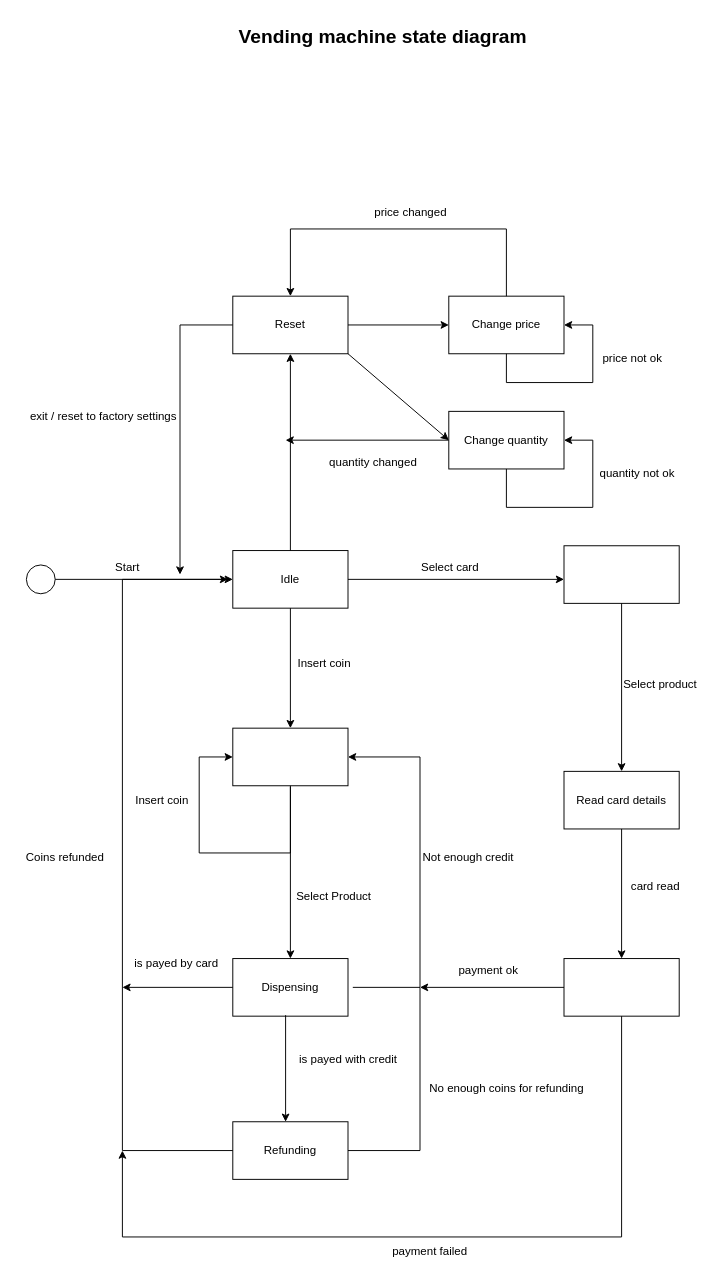
Some shapes in this 724 by 1282 pixel diagram are drawn without their labels. The shapes that lost their labels are listed below. From the top down, each one's box as (x1, y1, x2, y2) in pixels, then its label:
(563, 545, 679, 603): Pay with card
(232, 727, 348, 786): Coin Inserted
(563, 958, 679, 1016): Process payment
